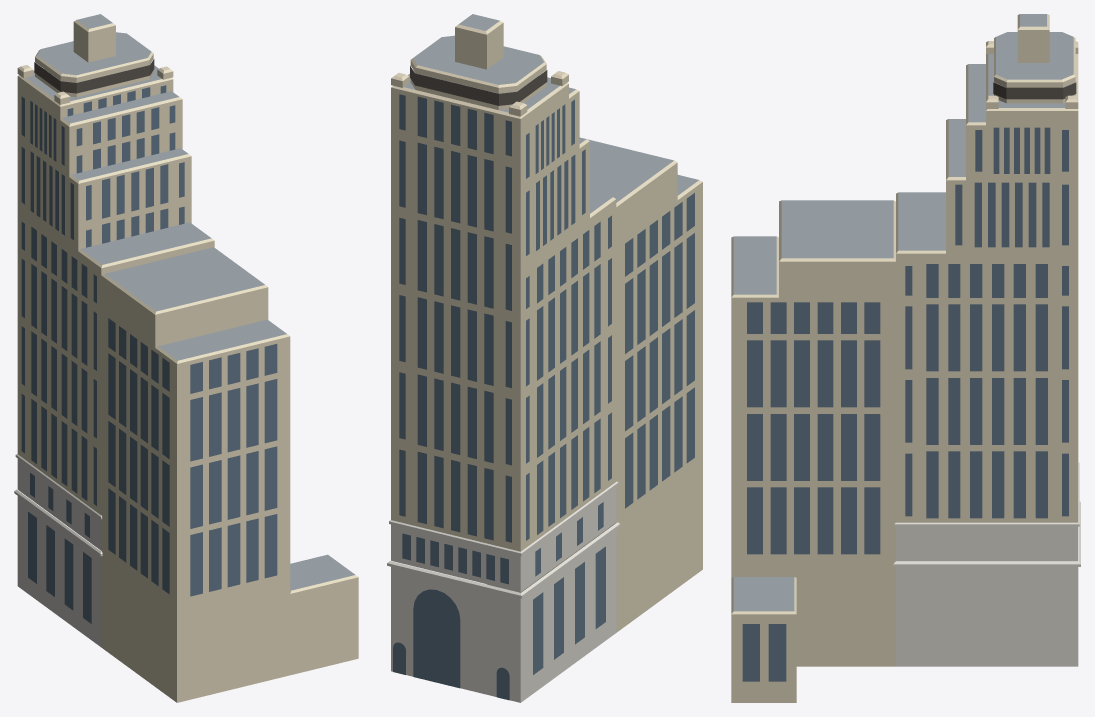
File: ric-central-national-bank.glb
3 views of the same model, side by side, from view 1: azimuth 30°, elevation 25°; view 2: azimuth 150°, elevation 25°; view 3: azimuth 270°, elevation 25° (orthographic). The views are drawn at different scales.
Parts seen in each view (by area): view 1: Central National Bank Building; view 2: Central National Bank Building; view 3: Central National Bank Building.
Boxes of the visible parts, left/top/right/bottom form: Central National Bank Building: left=14, top=14, right=358, bottom=702; Central National Bank Building: left=387, top=14, right=702, bottom=702; Central National Bank Building: left=731, top=14, right=1080, bottom=702.
Size of the model in its own units: 29.1 by 85.5 by 44.
